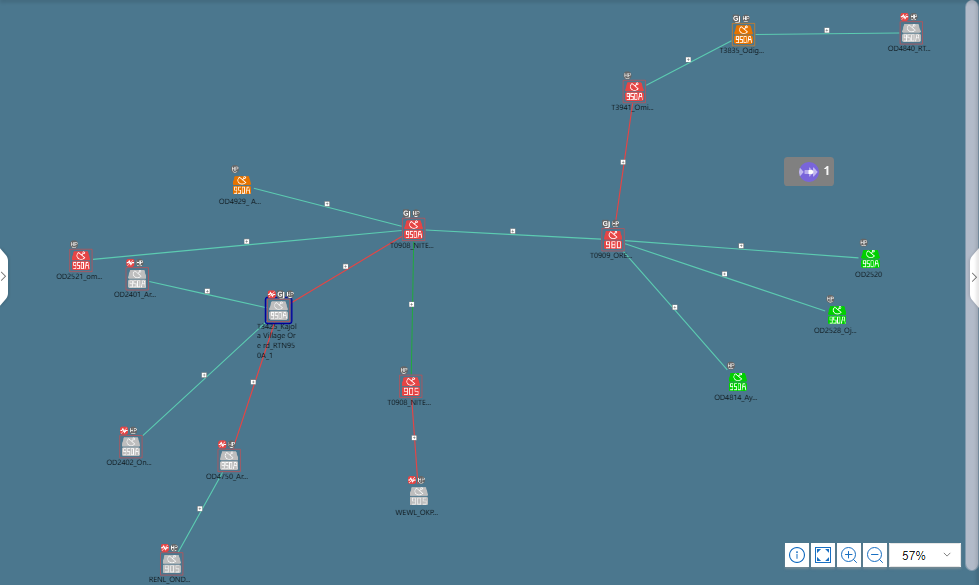Link_Blue: (627, 240, 828, 309), (144, 320, 262, 432), (621, 253, 727, 374), (95, 228, 387, 263), (254, 185, 405, 233), (668, 240, 857, 263), (150, 277, 263, 312), (646, 39, 728, 83), (181, 473, 219, 540), (457, 228, 598, 245)
Link_Green: (407, 240, 418, 371)
Link_Red: (291, 234, 398, 306), (229, 326, 277, 444), (615, 106, 638, 204), (407, 400, 424, 475)
RTN_Gray: (119, 436, 142, 459), (407, 485, 430, 508), (125, 271, 148, 294), (903, 20, 925, 43), (266, 302, 288, 325), (217, 449, 240, 470), (162, 553, 185, 574)
RTN_Green: (860, 253, 883, 270), (731, 375, 748, 390), (829, 308, 844, 323)
RTN_Orange: (229, 173, 252, 196), (731, 26, 753, 49)
RTN_Red: (70, 253, 93, 276), (621, 81, 644, 104), (603, 228, 626, 250), (401, 375, 424, 397), (401, 222, 422, 239)
